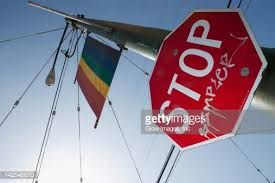stop_sign: (147, 9, 267, 151)
